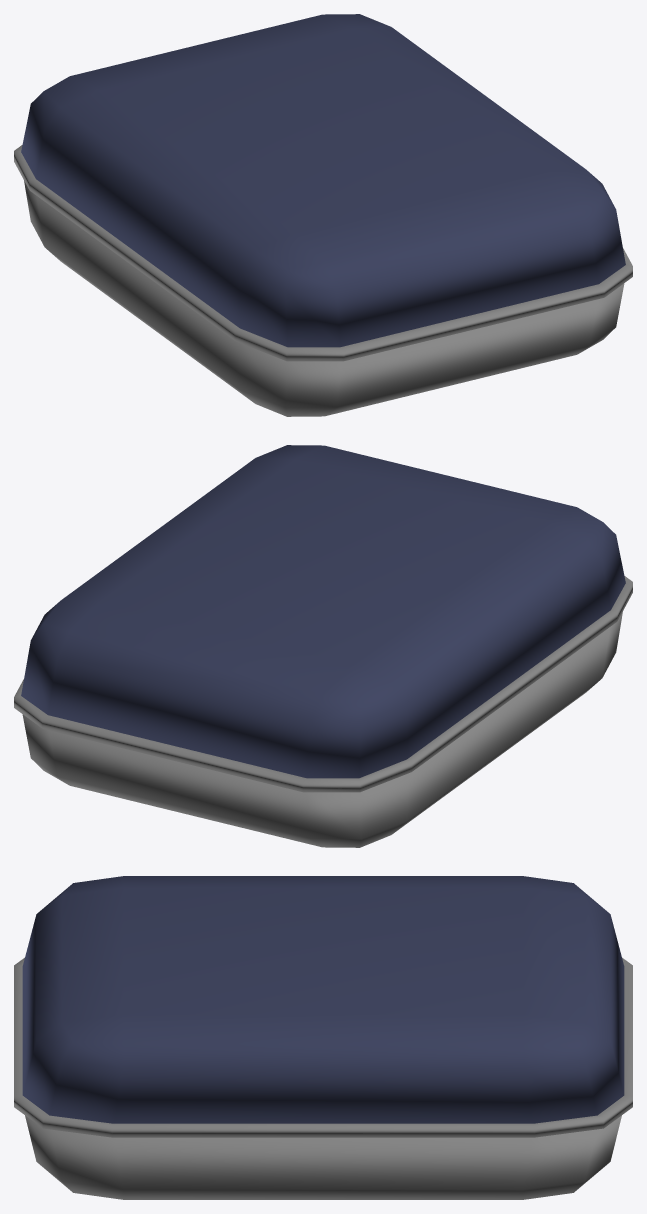
The model's file is pillbox.fbx.
3 views of the same model, one above another, from view 1: azimuth 30°, elevation 25°; view 2: azimuth 150°, elevation 25°; view 3: azimuth 270°, elevation 25° (orthographic). The views are drawn at different scales.
Visible parts, largest first — view 1: pillerirasia; view 2: pillerirasia; view 3: pillerirasia.
Boxes of the visible parts, x1,y1,x2,y2 form: pillerirasia: (14, 14, 632, 416); pillerirasia: (14, 445, 632, 847); pillerirasia: (14, 876, 632, 1199).
Bounding box in the file's own units: 0.0474 × 0.02 × 0.0647.
